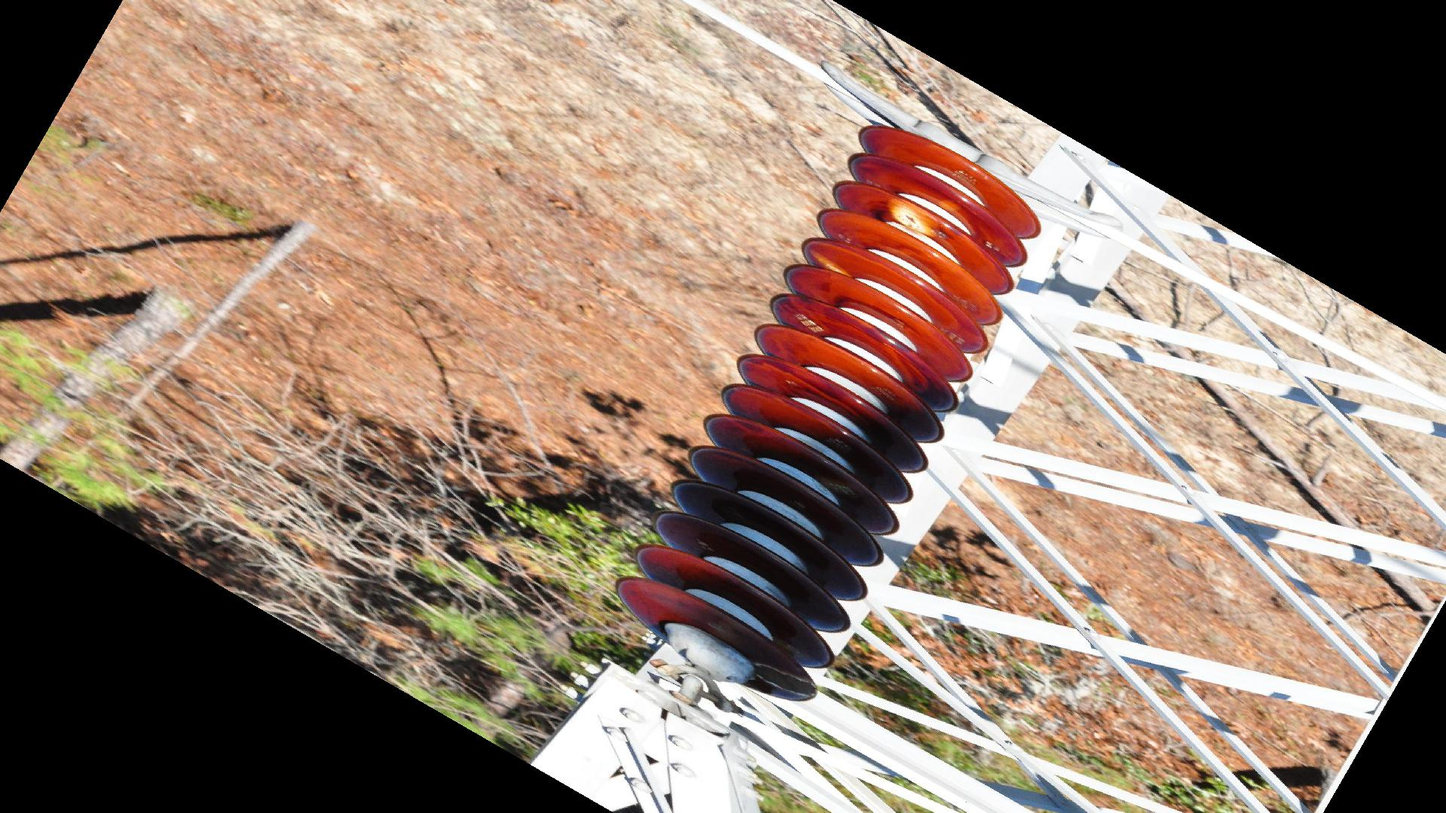insulator: (606, 118, 1047, 707)
insulator_flashover: (886, 196, 943, 241), (808, 248, 851, 277)
